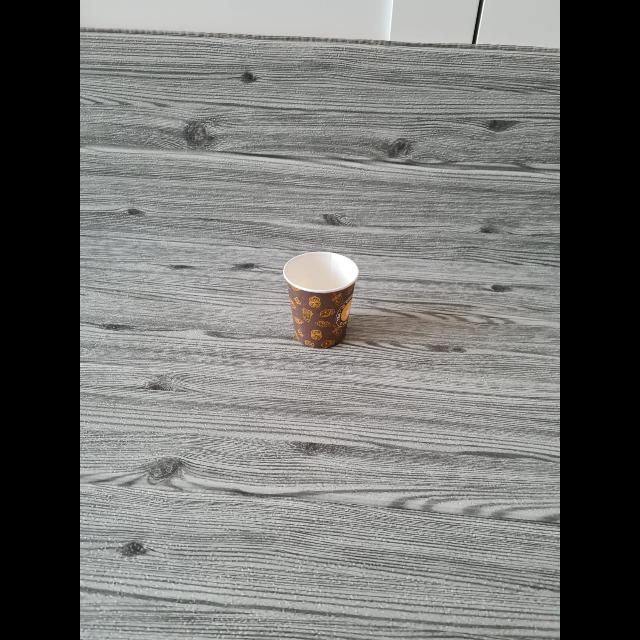trash: (282, 252, 358, 346)
